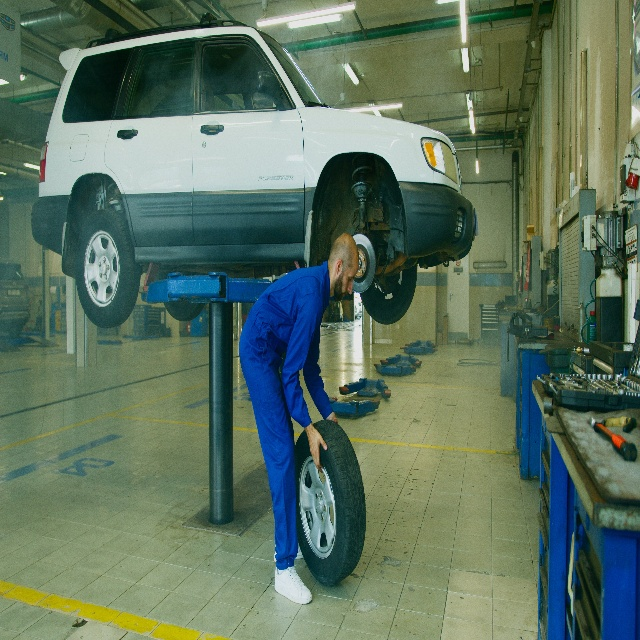Sin_guantes: (307, 425, 328, 473)
